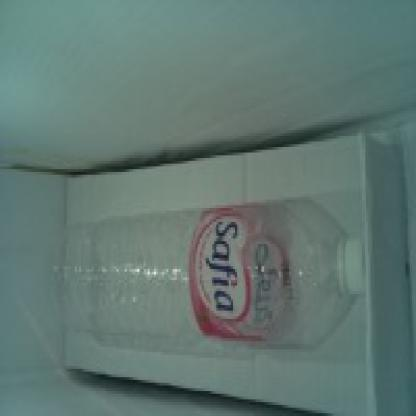bottle: (47, 199, 378, 356)
